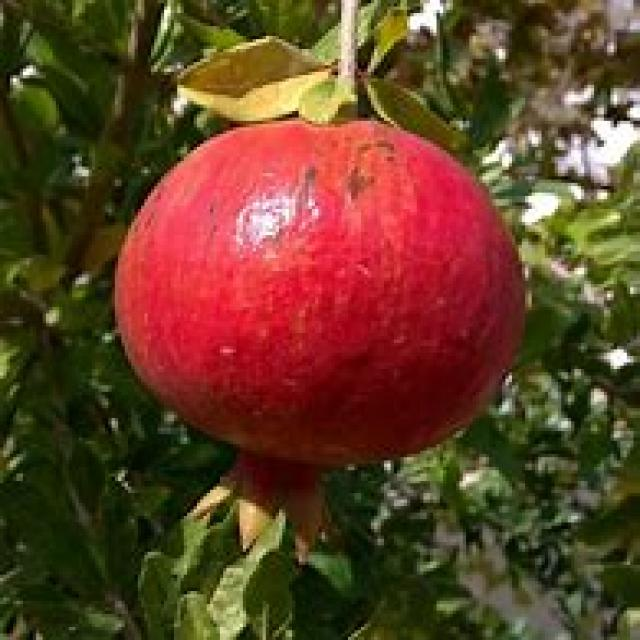Pomegranate: (113, 105, 527, 568)
